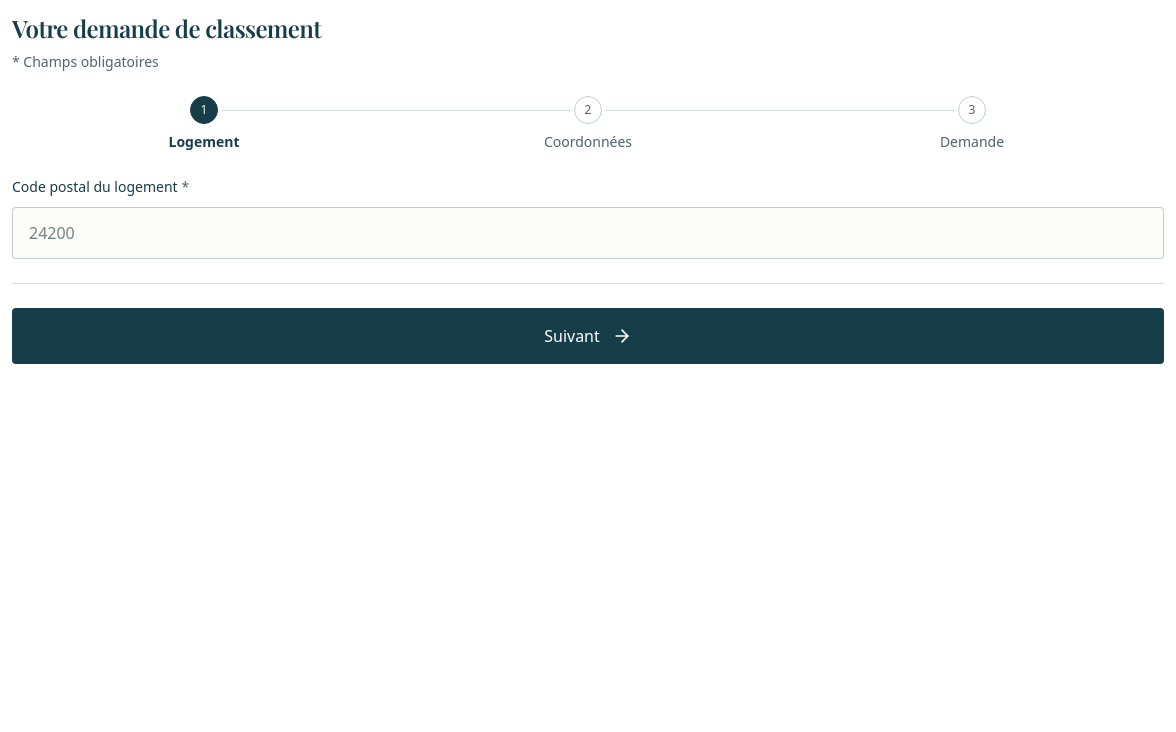
it: navigation entre les étapes › keeps a single commune when coming back to step 1
Step 1. Type "24150" into the field labelled "Code postal du logement*" → coordinates (588, 233), box [12,207,1164,259]
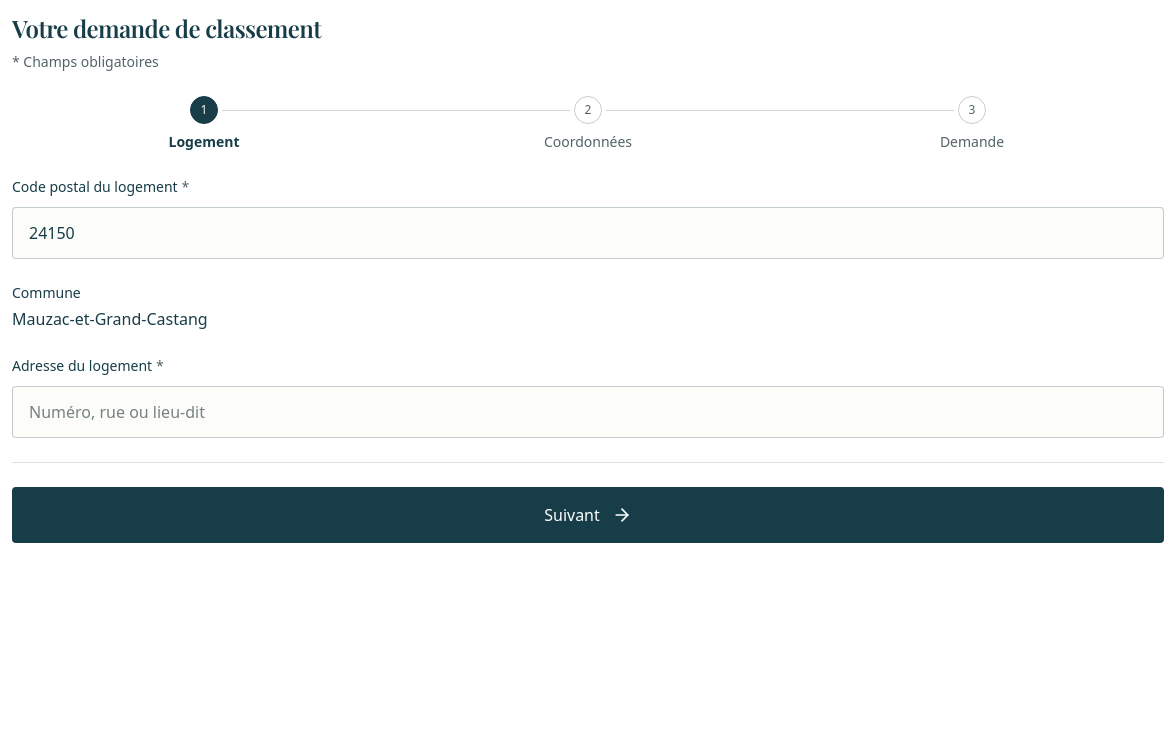
Step 2. Type "1 rue du Test" into the field labelled "Adresse du logement*" → coordinates (588, 412), box [12,386,1164,438]
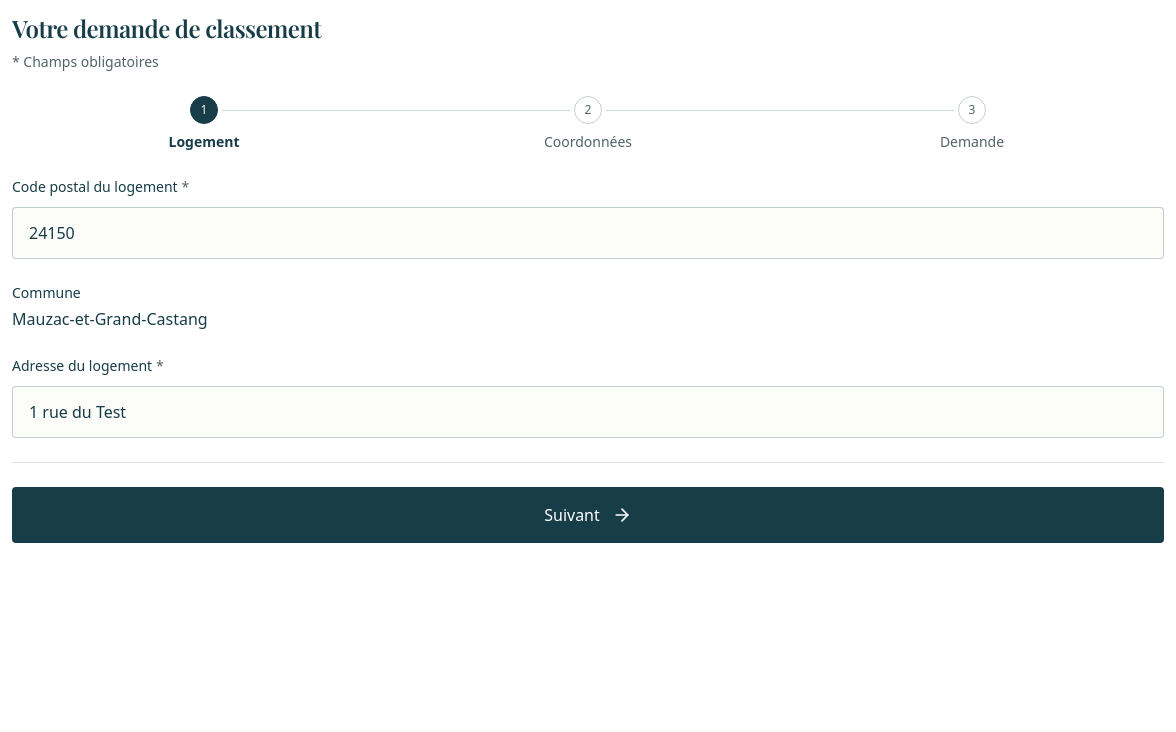
Step 3. Click the button "Suivant" → coordinates (588, 514), box [12,486,1164,542]
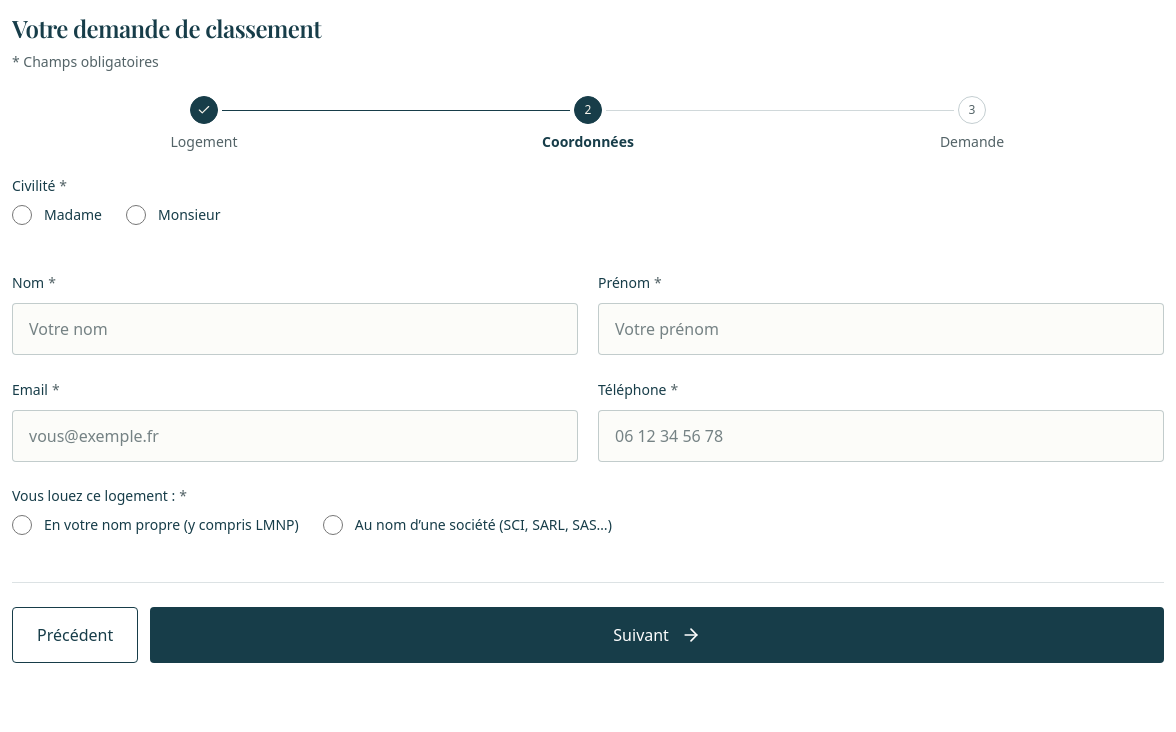
Step 4. Click the button "Précédent" → coordinates (75, 634), box [12,606,138,662]
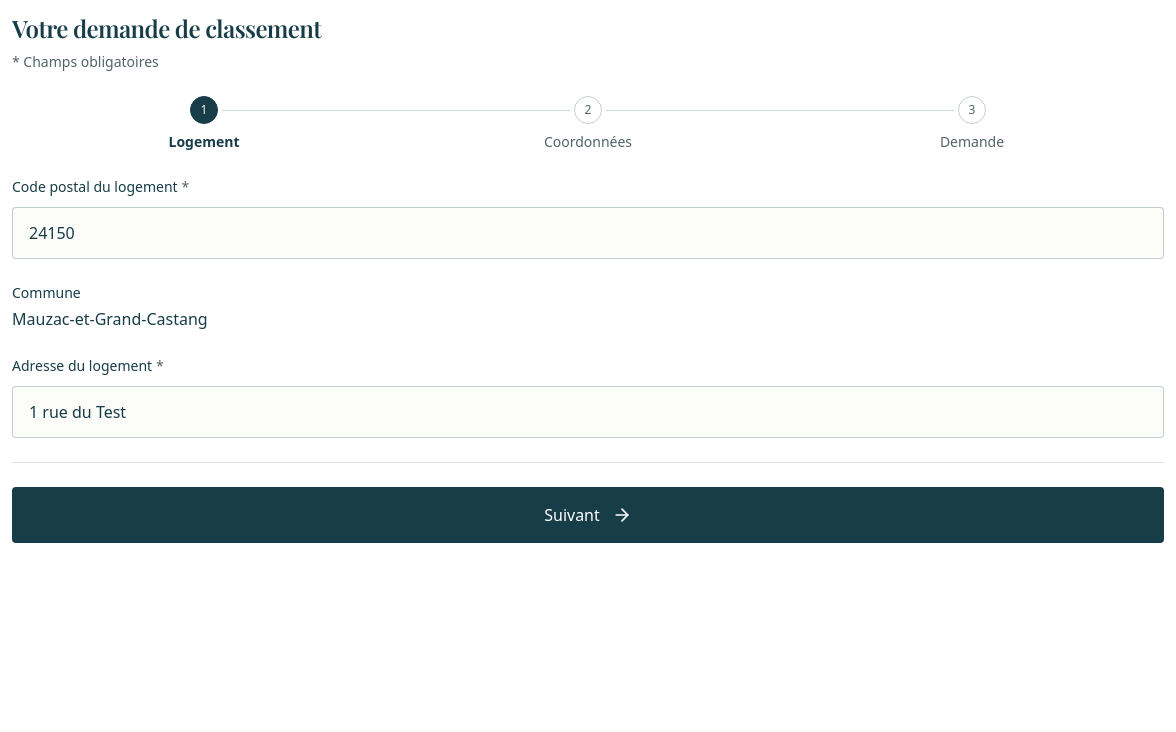
Check: the text "Mauzac-et-Grand-Castang" is shown, box [12,308,208,330]
